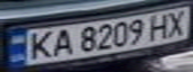0: (112, 19, 133, 47)
2: (93, 20, 115, 51)
8: (75, 24, 100, 53)
9: (127, 16, 151, 45)
A: (48, 27, 75, 57)
H: (145, 11, 175, 40)
K: (21, 29, 57, 61)
X: (163, 8, 190, 38)
